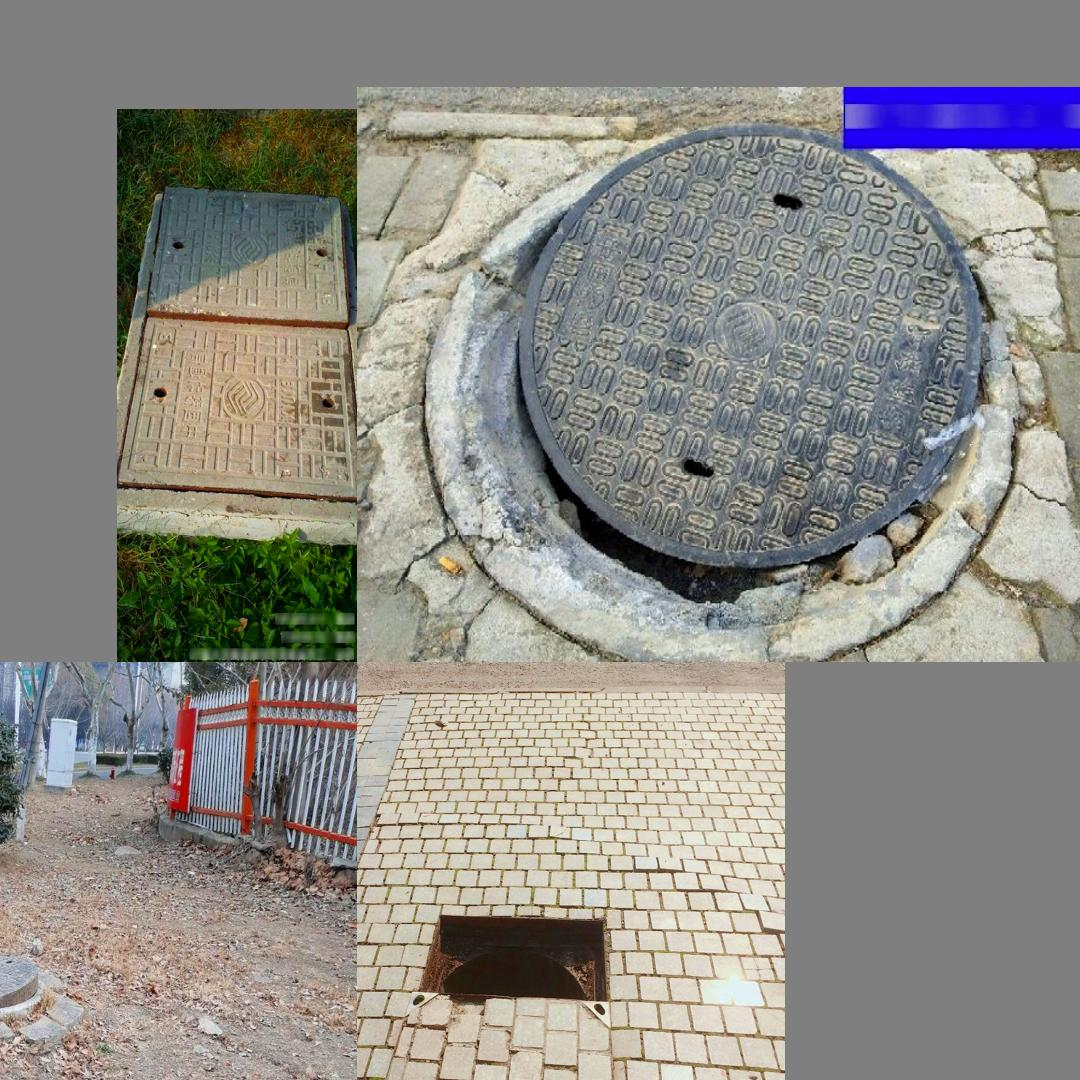uncovered: (458, 125, 1010, 628), (117, 185, 356, 541), (361, 910, 623, 1080), (0, 951, 44, 1017)
